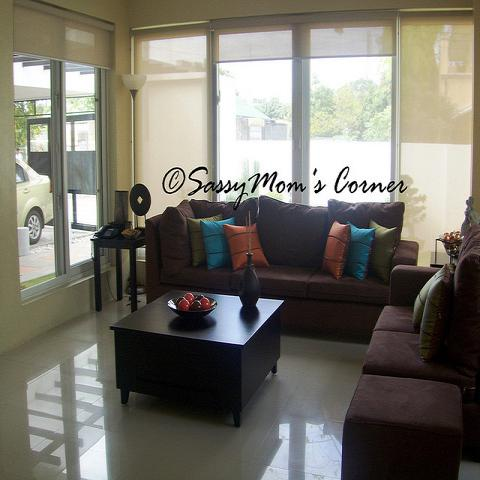car: (16, 156, 55, 245)
